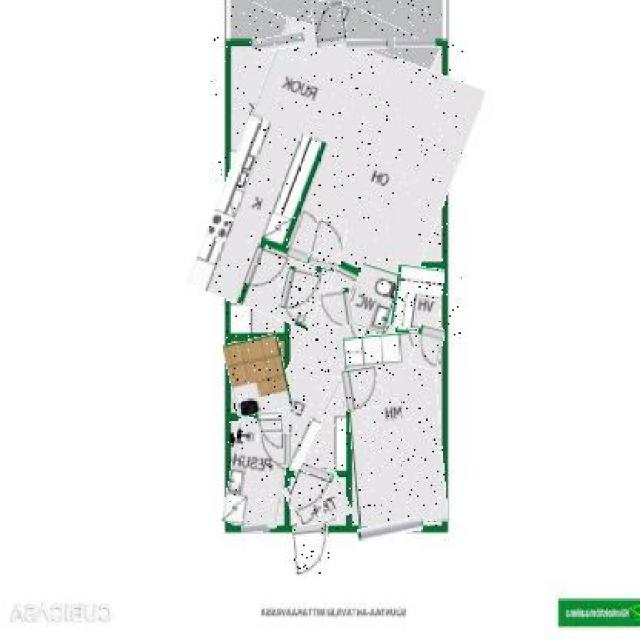door: (292, 466, 332, 516), (280, 268, 323, 314), (309, 218, 346, 270), (294, 524, 329, 574), (342, 368, 383, 410), (312, 0, 345, 46), (411, 325, 443, 369), (320, 288, 354, 328), (260, 432, 291, 465), (259, 412, 283, 443)
window: (357, 520, 423, 538), (252, 35, 305, 51), (348, 39, 390, 50), (394, 38, 438, 48), (240, 526, 268, 532)
zone: (209, 32, 463, 346), (269, 262, 366, 470), (346, 334, 445, 528), (228, 0, 442, 62), (226, 418, 289, 528), (228, 336, 289, 416), (288, 472, 349, 530), (348, 266, 398, 331), (394, 266, 443, 329)
